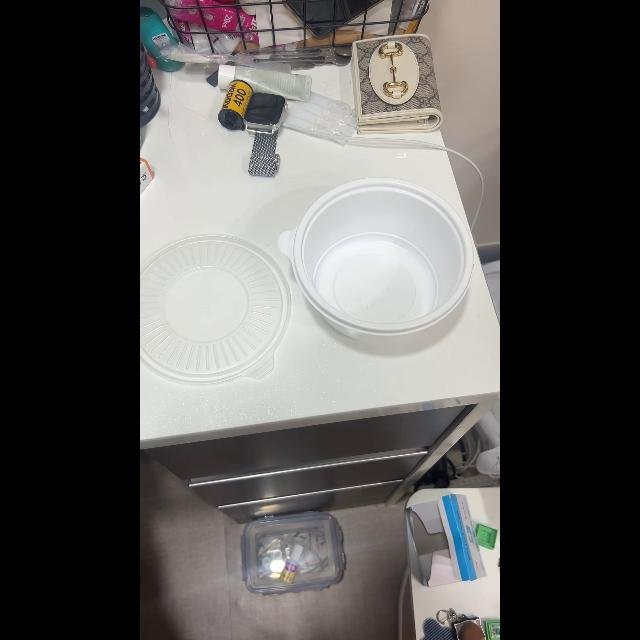clean: (281, 180, 473, 338), (140, 240, 280, 374)
